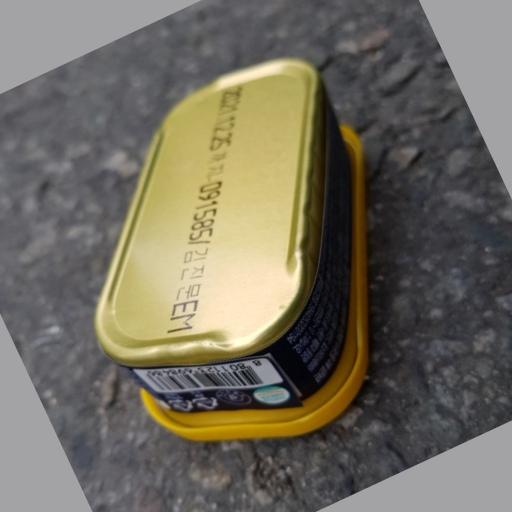Metal_2: (96, 57, 373, 443)
